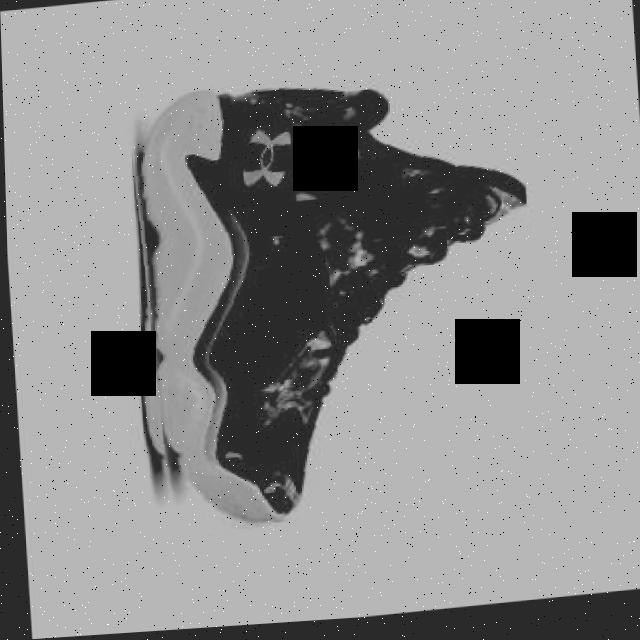shoe: (125, 65, 542, 543)
